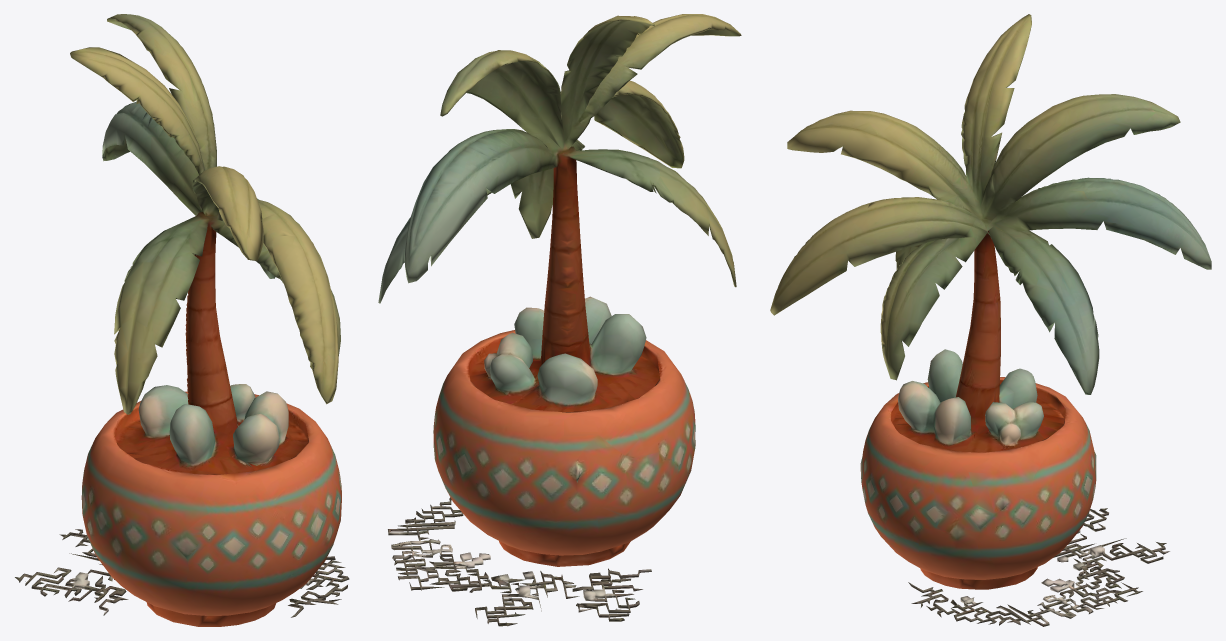
The model's file is oasenpflanze_a.glb.
3 views of the same model, side by side, from view 1: azimuth 30°, elevation 25°; view 2: azimuth 150°, elevation 25°; view 3: azimuth 270°, elevation 25° (orthographic). The views are drawn at different scales.
Parts seen in each view (by area): view 1: tripo_node_de90ae98-a049-44a1-a81d-543cc1f34ff6; view 2: tripo_node_de90ae98-a049-44a1-a81d-543cc1f34ff6; view 3: tripo_node_de90ae98-a049-44a1-a81d-543cc1f34ff6.
Boxes of the visible parts, box(x1,y1,x2,y2) form: tripo_node_de90ae98-a049-44a1-a81d-543cc1f34ff6: box(15, 14, 349, 626); tripo_node_de90ae98-a049-44a1-a81d-543cc1f34ff6: box(378, 14, 741, 626); tripo_node_de90ae98-a049-44a1-a81d-543cc1f34ff6: box(770, 14, 1211, 626).
Size of the model in its own units: 0.5019 by 0.9988 by 0.7939.
1 material, 1 textured.
